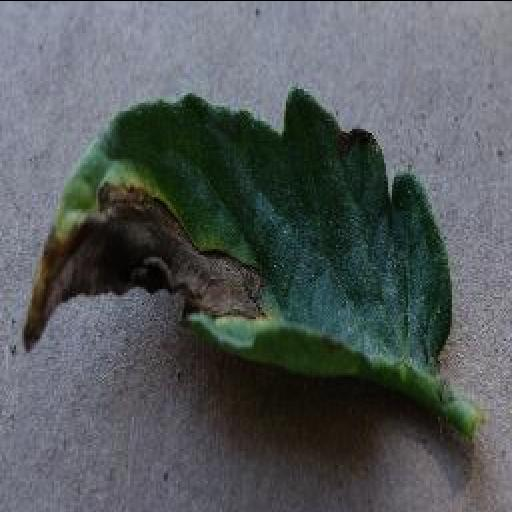disease_tomato: (14, 89, 444, 397)
